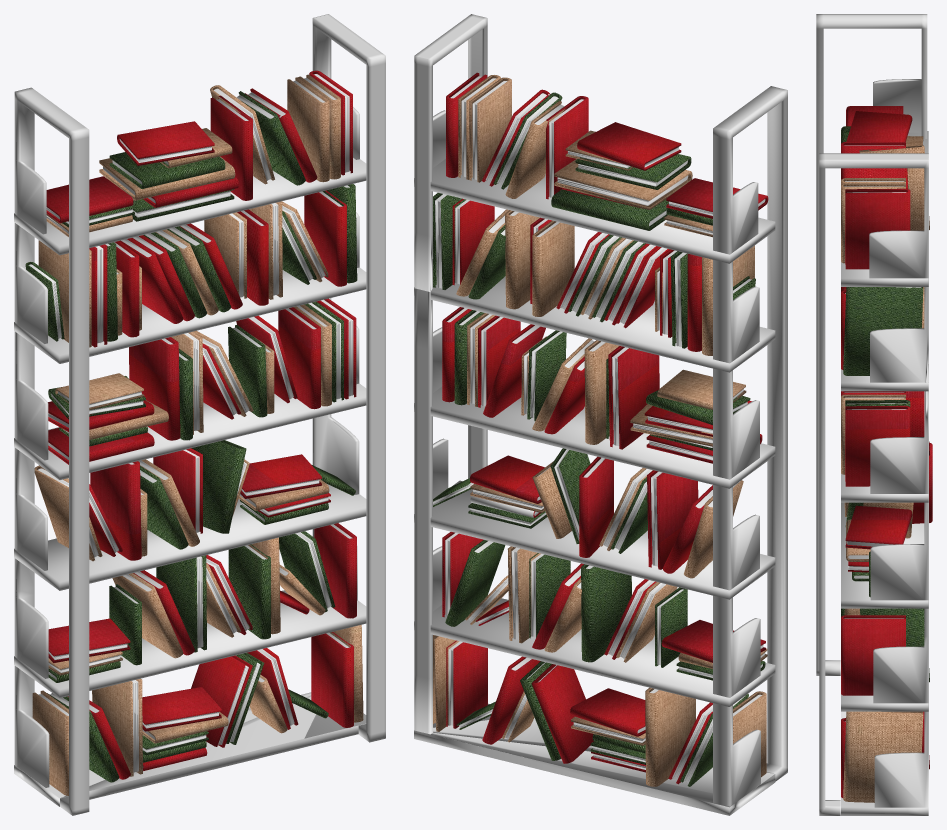
File: libreriaTest.fbx
3 renders of one model, left to right at view 1: azimuth 30°, elevation 25°; view 2: azimuth 150°, elevation 25°; view 3: azimuth 270°, elevation 25°, orthographic. The views are drawn at different scales.
Visible parts, largest first — view 1: LibroRojoOK; view 2: LibroRojoOK; view 3: LibroRojoOK.
Boxes of the visible parts, bbox=[...] form: LibroRojoOK: bbox=[14, 14, 385, 815]; LibroRojoOK: bbox=[414, 14, 787, 815]; LibroRojoOK: bbox=[816, 14, 932, 815].
Size of the model in its own units: 184 by 382 by 61.3.
